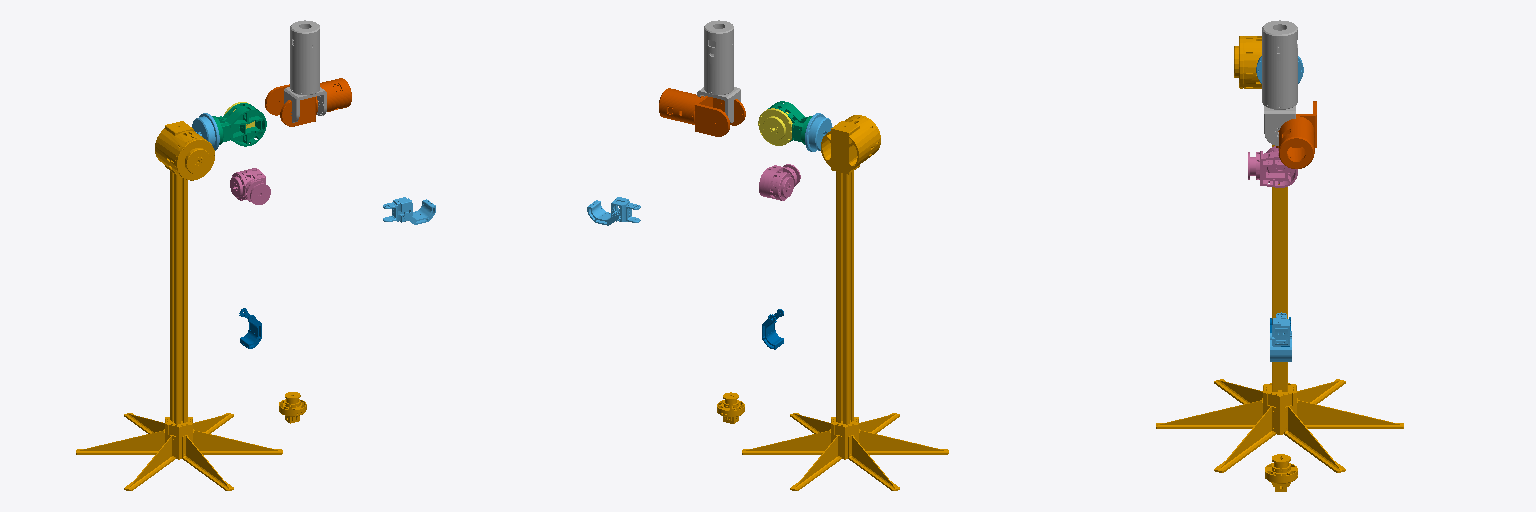
The robot description file, URDF, robot "arm1_URDF":
<?xml version='1.0' encoding='utf-8'?>
<robot name="arm1_URDF">
    <link name="base">
        <visual name="base_visual">
            <origin xyz="0.0 0.0 0.0" rpy="0.0 0.0 0.0" />
            <geometry>
                <mesh filename="package://final_project/meshes/base.stl" scale="0.001 0.001 0.001" />
            </geometry>
        </visual>
        <collision name="base_collision">
            <origin xyz="0.0 0.0 0.0" rpy="0.0 0.0 0.0" />
            <geometry>
                <mesh filename="package://final_project/meshes/base.stl" scale="0.0009 0.0009 0.0009" />
            </geometry>
        </collision>
    </link>

    <link name="G_50">
        <inertial>
            <origin xyz="-0.051650002701988454 -4.814918927475764e-05 -0.002790728507716764" rpy="0.0 -0.0 0.0" />
            <mass value="1.4023223893809473" />
            <inertia ixx="0.0012741334763335978" iyy="0.001272464352744418" izz="0.0020653341471157383" ixy="8.847089727481716e-17" iyz="-9.523880961507841e-07" ixz="-2.770252915355874e-17" />
        </inertial>
        <visual name="G_50_visual">
            <origin xyz="-0.05165000270197695 -3.750249621958801e-09 0.01300000020128298" rpy="-1.4119781732713213e-14 3.5247026839031876e-16 3.141592653589793" />
            <geometry>
                <mesh filename="package://final_project/meshes/G_50.stl" scale="0.001 0.001 0.001" />
            </geometry>
        </visual>
        </link>

    <link name="G_4">
        <inertial>
            <origin xyz="0.05935499319035209 0.004031725154343588 4.315289153140612e-06" rpy="0.0 -0.0 0.0" />
            <mass value="2.4058767362541364" />
            <inertia ixx="0.00254613790500402" iyy="0.007471226648819496" izz="0.006480794930182138" ixy="-0.00042671993814662407" iyz="-2.6220205331592417e-07" ixz="-5.712604365659679e-07" />
        </inertial>
        <visual name="G_4_visual">
            <origin xyz="-0.06519999979871717 -3.750249686906848e-09 2.7019765980185186e-09" rpy="-3.141592653589793 -5.163040450613385e-30 -3.8424124992884325e-16" />
            <geometry>
                <mesh filename="package://final_project/meshes/G_4.stl" scale="0.001 0.001 0.001" />
            </geometry>
        </visual>
        <collision name="G_4_collision">
            <origin xyz="-0.06519999979871717 -3.750249686906848e-09 2.7019765980185186e-09" rpy="-3.141592653589793 -5.163040450613385e-30 -3.8424124992884325e-16" />
            <geometry>
                <mesh filename="package://final_project/meshes/G_4.stl" scale="0.0009 0.0009 0.0009" />
            </geometry>
        </collision>
    </link>

    <link name="G_2">
        <inertial>
            <origin xyz="-4.8145237741863414e-05 0.05165000270198917 -0.002790724958750035" rpy="0.0 -0.0 0.0" />
            <mass value="1.4023223893809473" />
            <inertia ixx="0.001272464352744418" iyy="0.0012741334763336012" izz="0.0020653341471157383" ixy="-1.110223053643625e-16" iyz="2.081909243396548e-17" ixz="-9.523880961507841e-07" />
        </inertial>
        <visual name="G_2_visual">
            <origin xyz="2.0128346989167768e-10 0.05165000270197766 0.01300000375024975" rpy="2.1137605554777422e-15 7.4824881293612875e-16 1.5707963267948968" />
            <geometry>
                <mesh filename="package://final_project/meshes/G_2.stl" scale="0.001 0.001 0.001" />
            </geometry>
        </visual>
        </link>

    <link name="G_13">
        <inertial>
            <origin xyz="0.01623077756239752 -0.050990561533745905 0.020079991077276673" rpy="0.0 1.2668940227414186e-48 0.0" />
            <mass value="0.41626138634141535" />
            <inertia ixx="0.0004432468996341532" iyy="0.00016897175375006287" izz="0.0004028918180213751" ixy="-3.11176719610465e-05" iyz="4.0510613619287055e-06" ixz="-1.3099358946991532e-06" />
        </inertial>
        <visual name="G_13_visual">
            <origin xyz="2.0125682453908667e-10 -2.6986778323134787e-09 0.018499996249768325" rpy="-3.1415926535897545 2.7586953781964552e-14 1.5707963267948972" />
            <geometry>
                <mesh filename="package://final_project/meshes/G_13.stl" scale="0.001 0.001 0.001" />
            </geometry>
        </visual>
        <collision name="G_13_collision">
            <origin xyz="2.0125682453908667e-10 -2.6986778323134787e-09 0.018499996249768325" rpy="-3.1415926535897545 2.7586953781964552e-14 1.5707963267948972" />
            <geometry>
                <mesh filename="package://final_project/meshes/G_13.stl" scale="0.0008 0.0008 0.0008" />
            </geometry>
        </collision>
    </link>

    <link name="G_5">
        <visual><geometry><mesh filename="package://final_project/meshes/G_5.stl" scale="0.001 0.001 0.001"/></geometry></visual>
        <collision><geometry><mesh filename="package://final_project/meshes/G_5.stl" scale="0.0009 0.0009 0.0009"/></geometry></collision>
    </link>
    <link name="G_7">
        <visual><geometry><mesh filename="package://final_project/meshes/G_7.stl" scale="0.001 0.001 0.001"/></geometry></visual>
        <collision><geometry><mesh filename="package://final_project/meshes/G_7.stl" scale="0.0009 0.0009 0.0009"/></geometry></collision>
    </link>
    <link name="G_25">
        <visual><geometry><mesh filename="package://final_project/meshes/G_25.stl" scale="0.001 0.001 0.001"/></geometry></visual>
        <collision><geometry><mesh filename="package://final_project/meshes/G_25.stl" scale="0.0009 0.0009 0.0009"/></geometry></collision>
    </link>
    <link name="G_27">
        <visual><geometry><mesh filename="package://final_project/meshes/G_27.stl" scale="0.001 0.001 0.001"/></geometry></visual>
        <collision><geometry><mesh filename="package://final_project/meshes/G_27.stl" scale="0.0009 0.0009 0.0009"/></geometry></collision>
    </link>
    <link name="G_28">
        <visual><geometry><mesh filename="package://final_project/meshes/G_28.stl" scale="0.001 0.001 0.001"/></geometry></visual>
        <collision><geometry><mesh filename="package://final_project/meshes/G_28.stl" scale="0.0009 0.0009 0.0009"/></geometry></collision>
    </link>

    <joint name="강체-21" type="fixed">
        <origin xyz="0.0998 -0.020625 -0.051650000000000064" rpy="1.5707963267948966 0 0" />
        <parent link="G_4" />
        <child link="G_2" />
    </joint>

    <joint name="회전-22" type="continuous">
        <origin xyz="-3.552713678800501e-17 0.051650000000000064 0.019750000000000004" rpy="-1.5707963267948966 0 0" />
        <parent link="G_2" />
        <child link="G_5" />
        <axis xyz="0 1 0" />
    </joint>

    <joint name="회전-23" type="continuous">
        <origin xyz="-0.0001249999999999929 0.039 0.19194999999999993" rpy="3.1415926535897913 1.5707963267948966 0" />
        <parent link="G_5" />
        <child link="G_7" />
        <axis xyz="1 0 0" />
    </joint>

    <joint name="회전-24" type="continuous">
        <origin xyz="-0.05755000000000066 0 -0.04" rpy="3.141592653589793 1.5707963267948841 0" />
        <parent link="G_7" />
        <child link="G_25" />
        <axis xyz="-1 0 0" />
    </joint>

    <joint name="회전-25" type="continuous">
        <origin xyz="-0.04 0.0 0.24949997999999995" rpy="3.141592653589793 0 0" />
        <parent link="G_25" />
        <child link="G_27" />
        <axis xyz="0 0 1" />
    </joint>

    <joint name="회전-26" type="continuous">
        <origin xyz="0.017250000000000015 0 -0.05025000000000006" rpy="0 -1.5707963267948966 0" />
        <parent link="G_27" />
        <child link="G_28" />
        <axis xyz="0 0 1" />
    </joint>

    <joint name="회전-28" type="continuous">
        <origin xyz="-0.0507500000000001 0.02025 0.004250000000000007" rpy="1.570796326794911 1.5707963267948746 0" />
        <parent link="G_28" />
        <child link="G_13" />
        <axis xyz="0 0 1" />
    </joint>

    <joint name="강체-29" type="fixed">
        <origin xyz="0.09099999979871715 0 1.0266500027019778" rpy="-3.141592653589793 -1.5707963267948966 0" />
        <parent link="base" />
        <child link="G_50" />
    </joint>

    <joint name="회전-30" type="continuous">
        <origin xyz="-0.051650000000000064 0.0 0.019749999999999997" rpy="0 -1.5707963267948966 0" />
        <parent link="G_50" />
        <child link="G_4" />
        <axis xyz="-1 0 0" />
    </joint>

    <ros2_control name="FakeSystem" type="system">
        <hardware><plugin>mock_components/GenericSystem</plugin></hardware>
        <joint name="회전-30"><command_interface name="position"/><state_interface name="position"><param name="initial_value">0.0</param></state_interface></joint>
        <joint name="회전-22"><command_interface name="position"/><state_interface name="position"><param name="initial_value">0.0</param></state_interface></joint>
        <joint name="회전-23"><command_interface name="position"/><state_interface name="position"><param name="initial_value">0.0</param></state_interface></joint>
        <joint name="회전-24"><command_interface name="position"/><state_interface name="position"><param name="initial_value">0.0</param></state_interface></joint>
        <joint name="회전-25"><command_interface name="position"/><state_interface name="position"><param name="initial_value">0.0</param></state_interface></joint>
        <joint name="회전-26"><command_interface name="position"/><state_interface name="position"><param name="initial_value">0.0</param></state_interface></joint>
        <joint name="회전-28"><command_interface name="position"/><state_interface name="position"><param name="initial_value">0.0</param></state_interface></joint>
    </ros2_control>
</robot>

--- Render facts (derived) ---
3 views of the same robot in one strip: view 1: azimuth 30°, elevation 25°; view 2: azimuth 150°, elevation 25°; view 3: azimuth 270°, elevation 25° (orthographic).
Model arm1_URDF with 10 links and 9 joints (7 continuous, 2 fixed), rooted at base, posed every joint at zero.
Links seen in each view (by area): view 1: base, G_25, G_5, G_4, G_7, G_28, G_27, G_50, G_13; view 2: base, G_25, G_5, G_7, G_2, G_28, G_50, G_4, G_27, G_13; view 3: base, G_25, G_5, G_7, G_28, G_27.
Link boxes in pixels (x1,y1,x2,y2): base: (76, 121, 282, 490); G_25: (284, 20, 326, 122); G_5: (265, 78, 351, 126); G_4: (212, 103, 266, 146); G_7: (230, 168, 270, 204); G_28: (383, 197, 435, 224); G_27: (279, 392, 306, 423); G_50: (192, 113, 219, 150); G_13: (239, 308, 261, 348); base: (742, 115, 948, 490); G_25: (697, 20, 740, 122); G_5: (659, 88, 745, 136); G_7: (759, 164, 800, 200); G_2: (758, 108, 792, 145); G_28: (587, 197, 640, 225); G_50: (805, 113, 832, 151); G_4: (768, 101, 811, 144); G_27: (717, 392, 744, 423); G_13: (762, 309, 783, 349); base: (1156, 36, 1403, 472); G_25: (1262, 20, 1297, 145); G_5: (1276, 101, 1316, 168); G_7: (1248, 146, 1297, 187); G_28: (1270, 312, 1291, 361); G_27: (1265, 454, 1297, 491).
Bounding box of the posed robot: 1.08 × 0.5836 × 1.23 m (x, y, z).
10 mesh visuals loaded from 10 distinct referenced files (10 binary STL).
